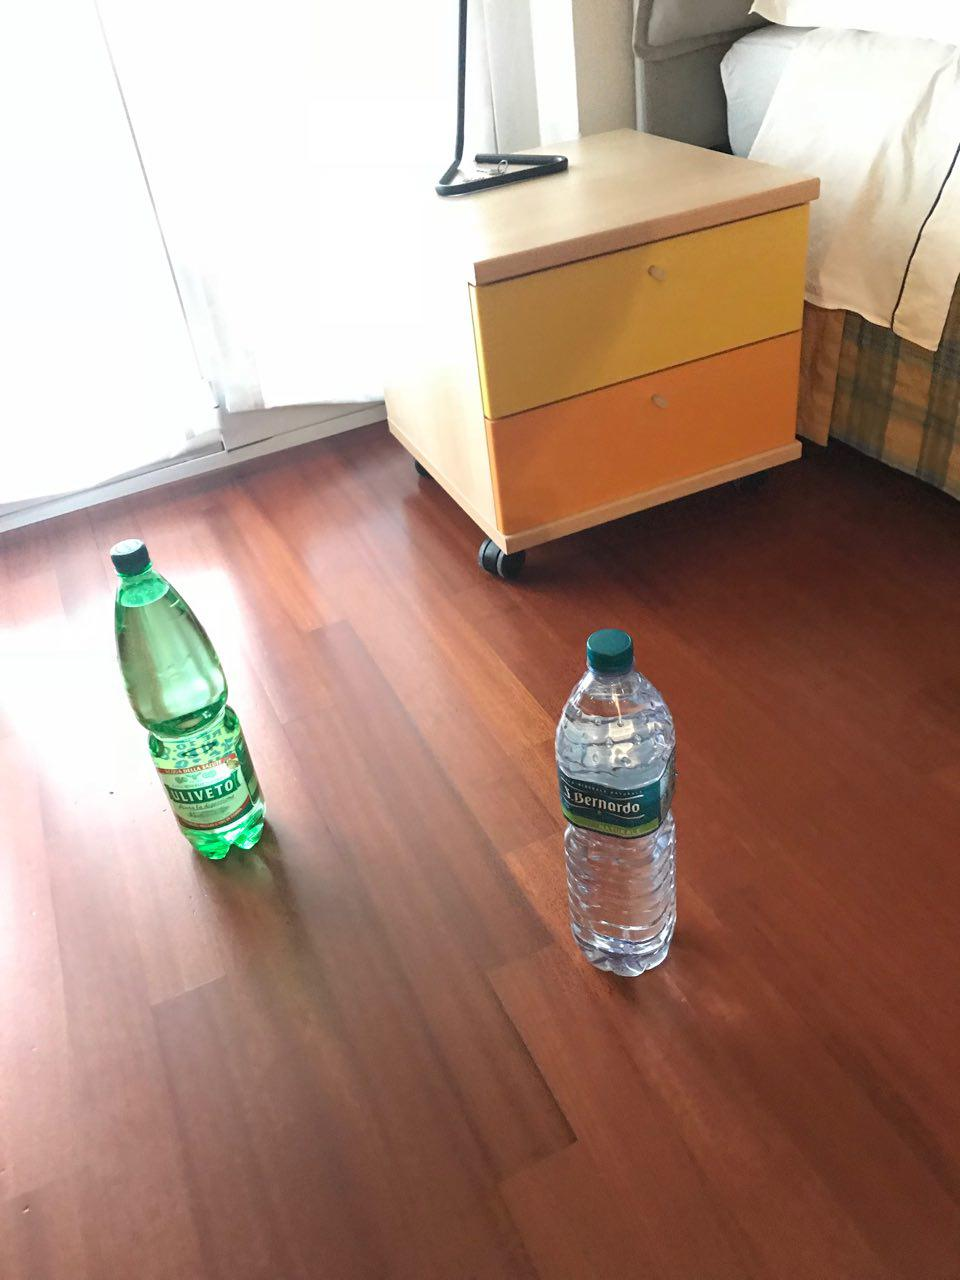san_bernardo: (554, 629, 678, 978)
